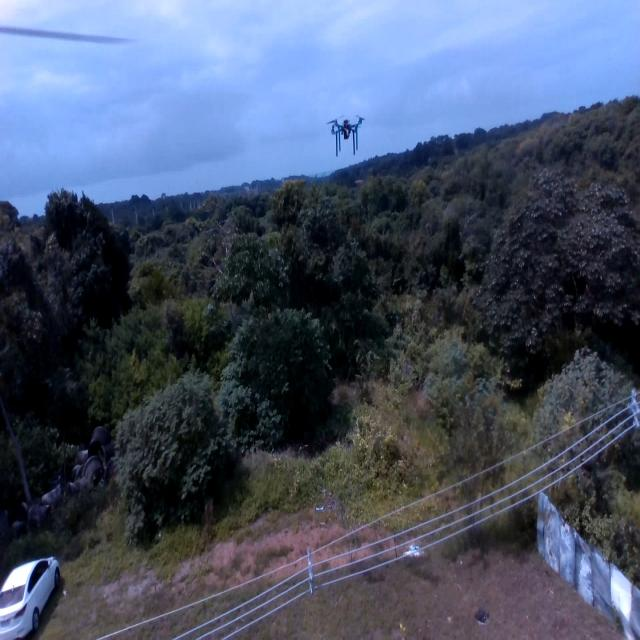-uav-: (319, 105, 369, 163)
